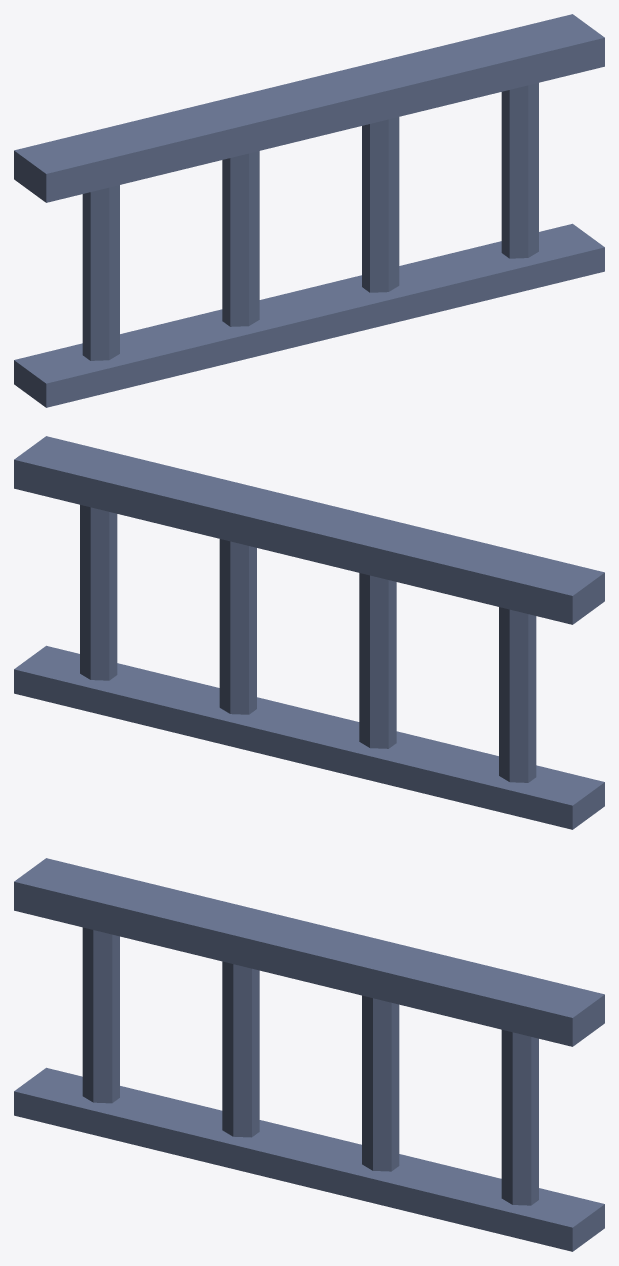
File: stair_railing.fbx
The picture shows the model from 3 angles, top to bottom: view 1: azimuth 30°, elevation 25°; view 2: azimuth 150°, elevation 25°; view 3: azimuth 330°, elevation 25°; orthographic projection.
Visible parts, largest first — view 1: railing.001; view 2: railing.001; view 3: railing.001.
Boxes of the visible parts, x1,y1,x2,y2 form: railing.001: (14, 14, 604, 407); railing.001: (14, 436, 604, 829); railing.001: (14, 858, 604, 1251).
Size of the model in its own units: 100 by 10 by 40.
